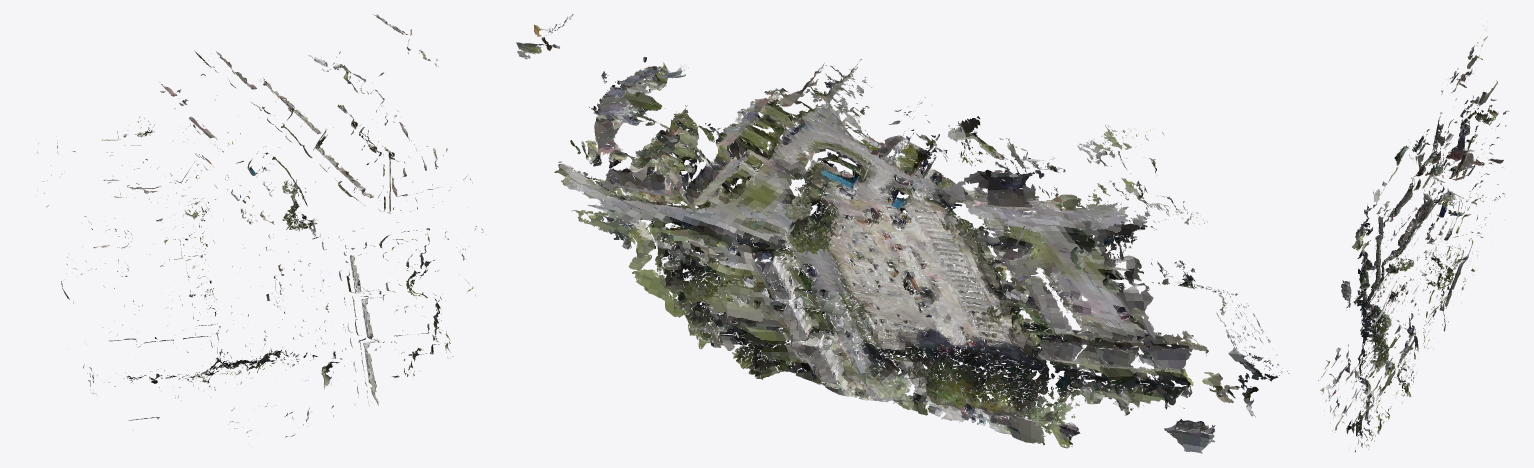
File: buildscan-ludgershall-public.glb
3 views of the same model, side by side, from view 1: azimuth 30°, elevation 25°; view 2: azimuth 150°, elevation 25°; view 3: azimuth 270°, elevation 25° (orthographic). The views are drawn at different scales.
Visible parts, largest first — view 1: Node; view 2: Node; view 3: Node.
Part boxes in pixels (<box>): Node: <box>35,14,483,437</box>; Node: <box>516,14,1289,453</box>; Node: <box>1318,25,1509,452</box>.
Size of the model in its own units: 2.6 by 1.77 by 1.06.
118 materials, 118 textured.
